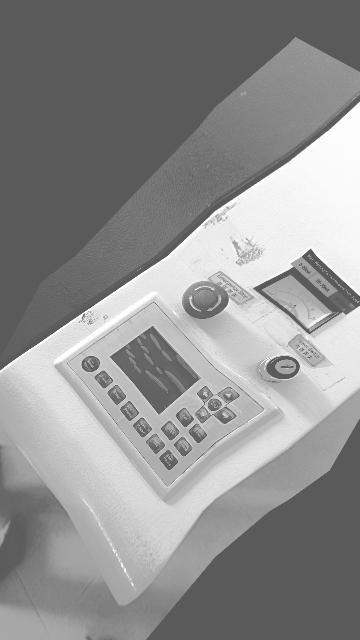Amp_Meter: (263, 275, 338, 332)
Display: (112, 325, 197, 412)
Down_button: (195, 406, 211, 423)
Emergency_Stop: (182, 281, 229, 319)
Enter_button: (189, 424, 207, 444)
Esc_button: (176, 408, 193, 427)
File_button: (147, 434, 165, 454)
Frame_button: (175, 437, 192, 457)
Left_button: (197, 386, 212, 403)
Max-Power_button: (133, 418, 152, 437)
Min-Power_button: (120, 402, 139, 421)
Origin_button: (162, 420, 179, 441)
Power_switch: (257, 356, 300, 382)
Pulse_button: (95, 371, 113, 388)
Reset_button: (82, 356, 100, 372)
Right_button: (214, 407, 236, 424)
Speed_button: (108, 385, 126, 405)
Start-Pause_button: (159, 450, 178, 470)
Up_button: (218, 387, 239, 403)
Z_U_button: (208, 398, 221, 411)
